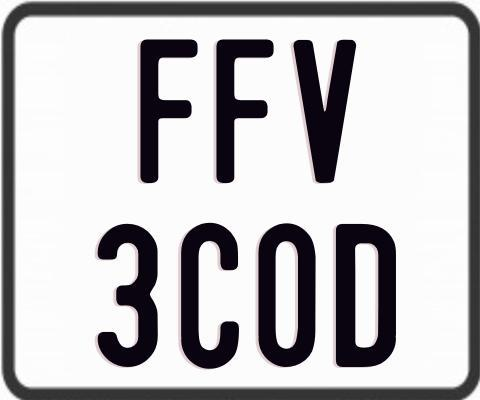0: (255, 220, 314, 368)
3: (95, 221, 158, 370)
C: (178, 221, 237, 371)
D: (333, 222, 396, 365)
F: (214, 36, 278, 181), (140, 37, 204, 181)
V: (293, 37, 359, 181)
